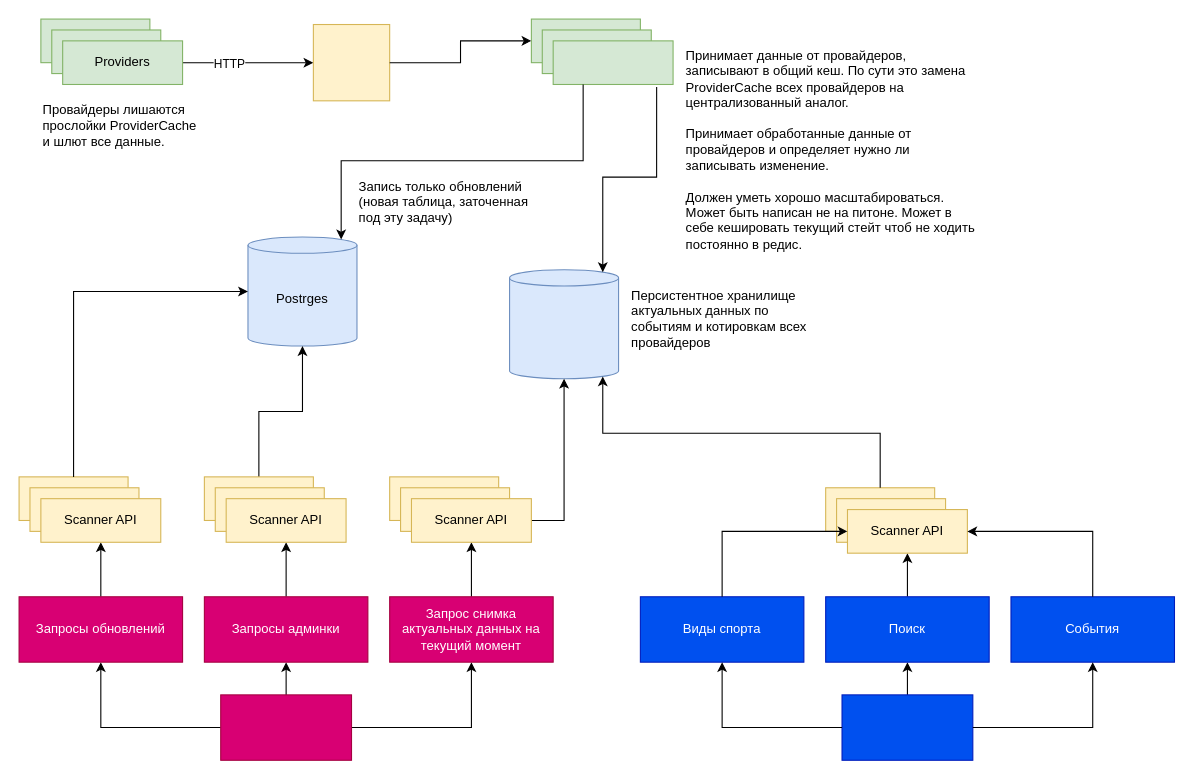
Image size: 1194x779. Some labels were removed from this diagram. Here are the shapes that lost their labels. From the top down, the box of each, then its label:
(312, 23, 390, 101): Load balancer
(552, 40, 673, 84): Data readers
(508, 269, 619, 379): Redis MAIN CACHE
(220, 694, 352, 760): 24h soft
(841, 694, 973, 760): Odds Rating
